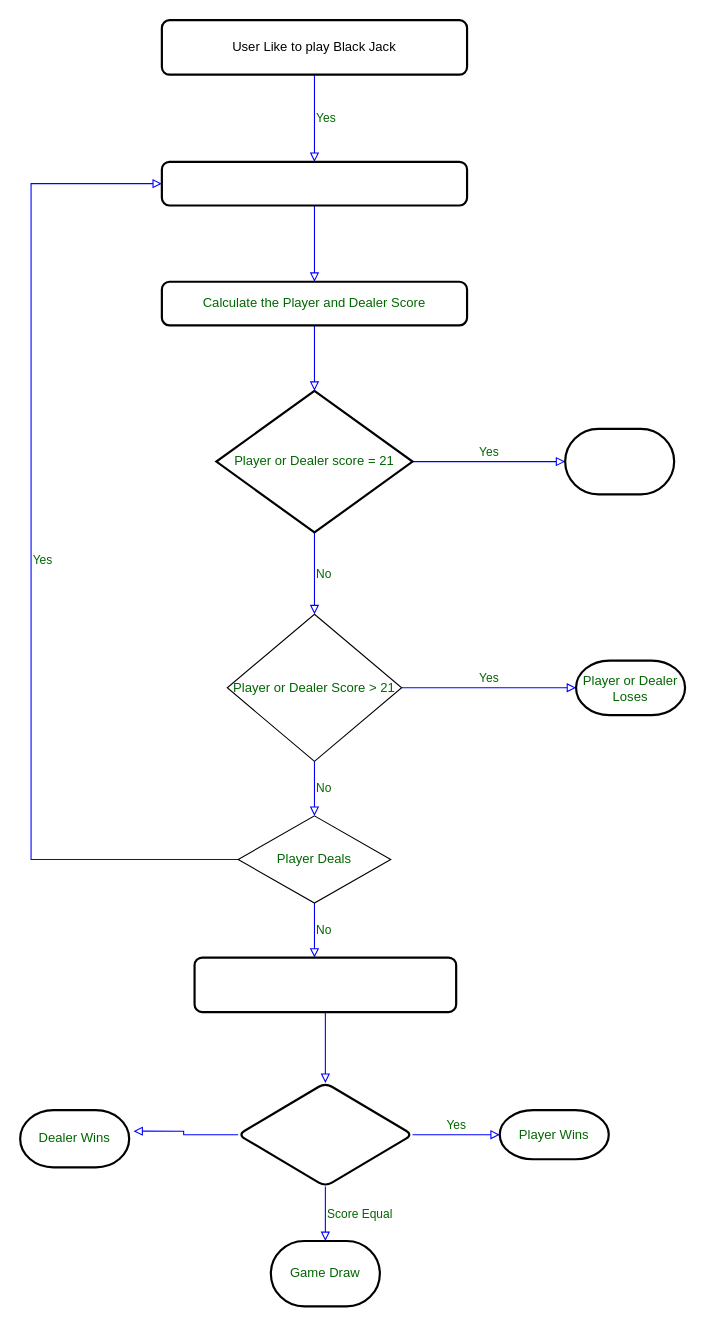
This 704x1325 diagram has some shape labels left out. The box of each missing label's shape, as (x1, y1, x2, y2) in pixels:
Calculate Player and Dealer Score: (193, 956, 457, 1013)
Draw the Cards for Dealer and Player: (160, 160, 468, 206)
Player or Dealer Wins: (564, 427, 675, 495)
Player Score > dealer: (237, 1081, 413, 1187)
